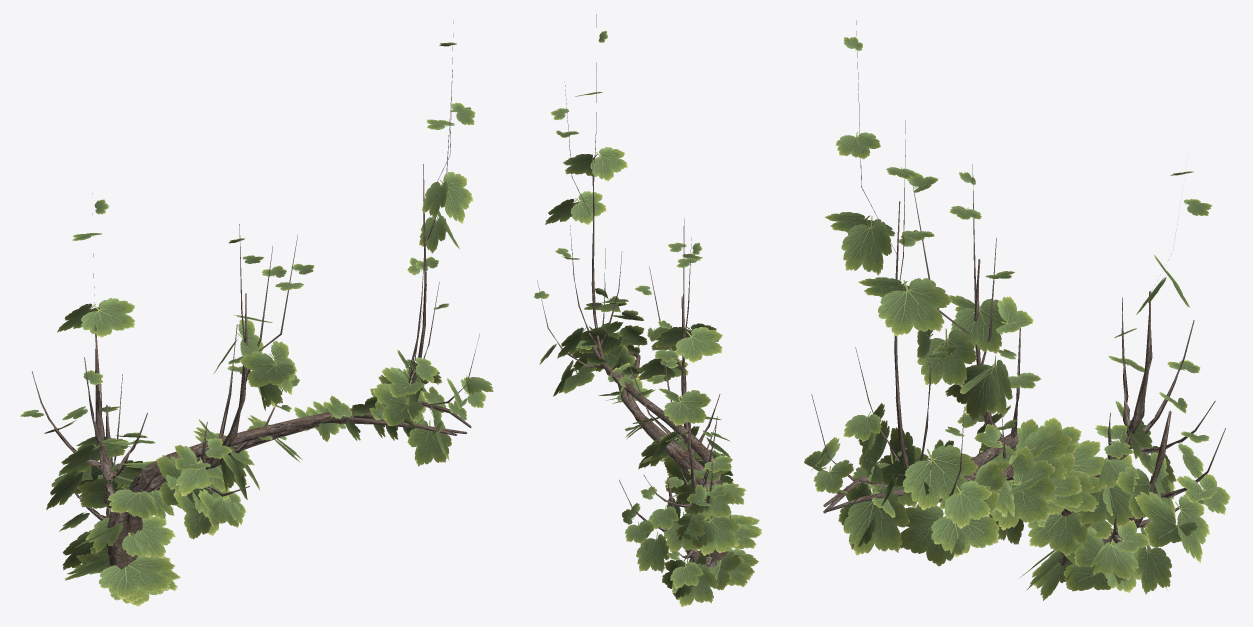
File: Climbing08.fbx
The picture shows the model from 3 angles, left to right: view 1: azimuth 30°, elevation 25°; view 2: azimuth 150°, elevation 25°; view 3: azimuth 270°, elevation 25°; orthographic projection. The views are drawn at different scales.
Visible parts, largest first — view 1: climbing08; view 2: climbing08; view 3: climbing08.
Part boxes in pixels (x1=…): climbing08: x1=20, y1=21, x2=493, y2=606; climbing08: x1=534, y1=14, x2=761, y2=606; climbing08: x1=804, y1=20, x2=1230, y2=600.
Bounding box in the file's own units: 829 × 1362 × 756.
